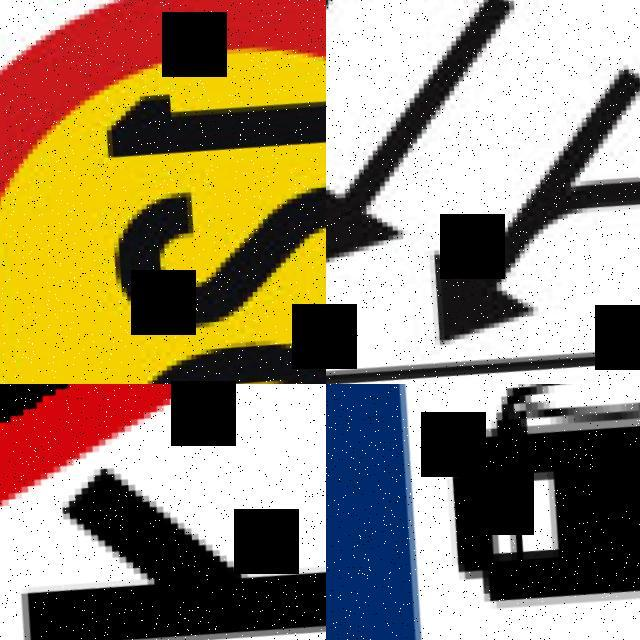55: (0, 0, 326, 384)
Filling station: (326, 384, 640, 640)
Oblique side road junction: (0, 384, 326, 640)
adjoining way: (326, 0, 640, 384)
